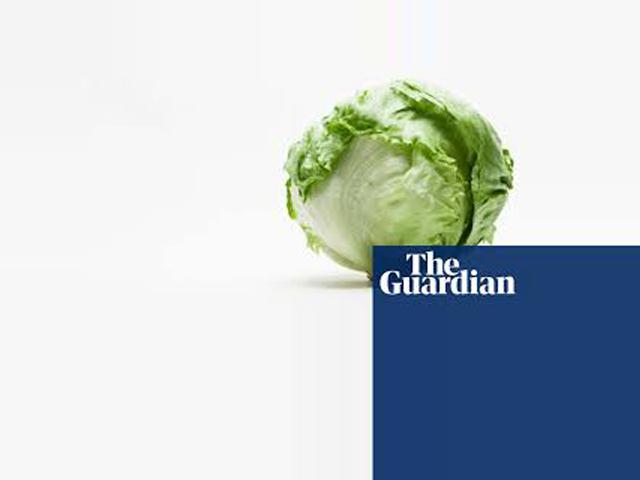lettuce: (286, 69, 507, 271)
